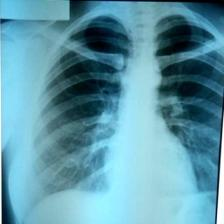tuberculosis: (23, 3, 223, 224)
